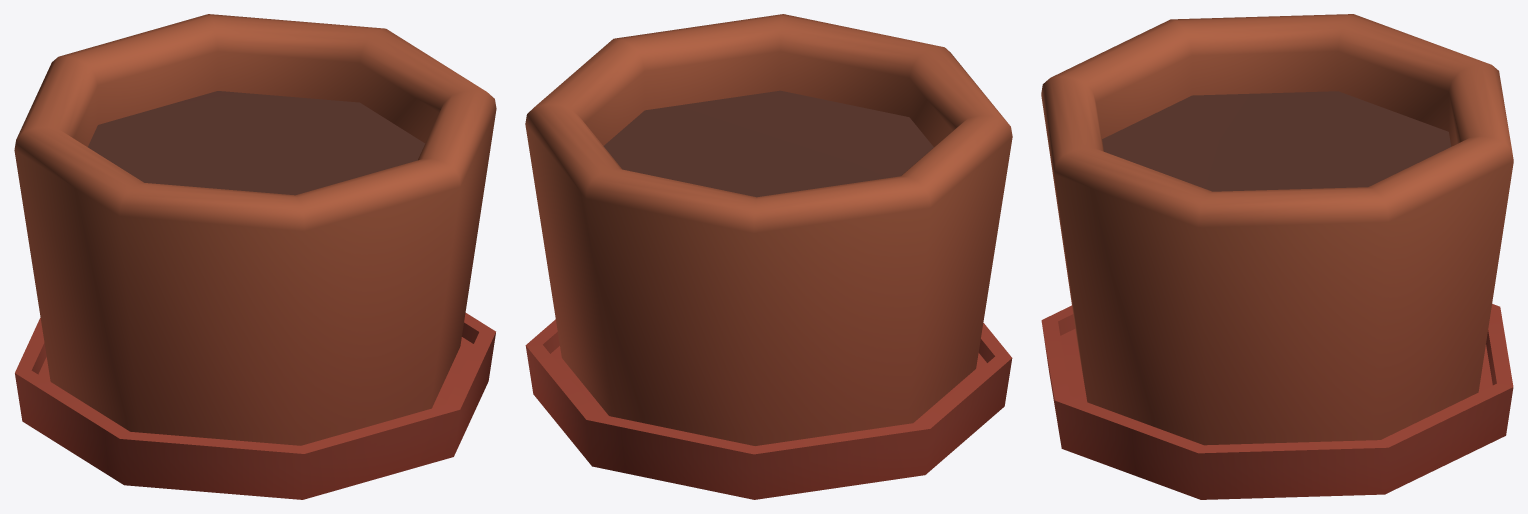
File: FlowerPot.fbx
3 renders of one model, left to right at view 1: azimuth 30°, elevation 25°; view 2: azimuth 150°, elevation 25°; view 3: azimuth 270°, elevation 25°, orthographic. The views are drawn at different scales.
Visible parts, largest first — view 1: FlowerPot; view 2: FlowerPot; view 3: FlowerPot.
Part boxes in pixels (x1,y1,x2,y2): FlowerPot: (14,14,496,499); FlowerPot: (525,14,1012,499); FlowerPot: (1041,14,1513,499).
Bounding box in the file's own units: 0.211 × 0.1458 × 0.211.
